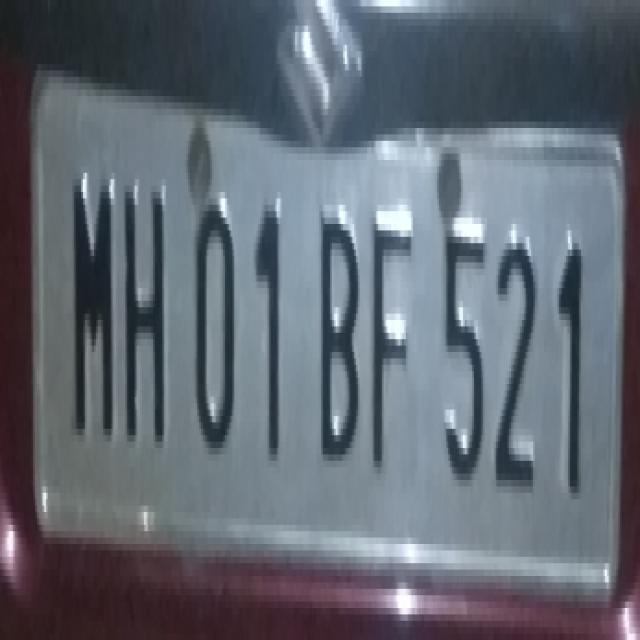0: (188, 186, 248, 468)
1: (550, 219, 590, 511), (252, 186, 288, 488)
5: (440, 203, 492, 504)
B: (314, 181, 364, 483)
F: (370, 183, 420, 480)
H: (121, 159, 175, 465)
M: (65, 150, 118, 451)
